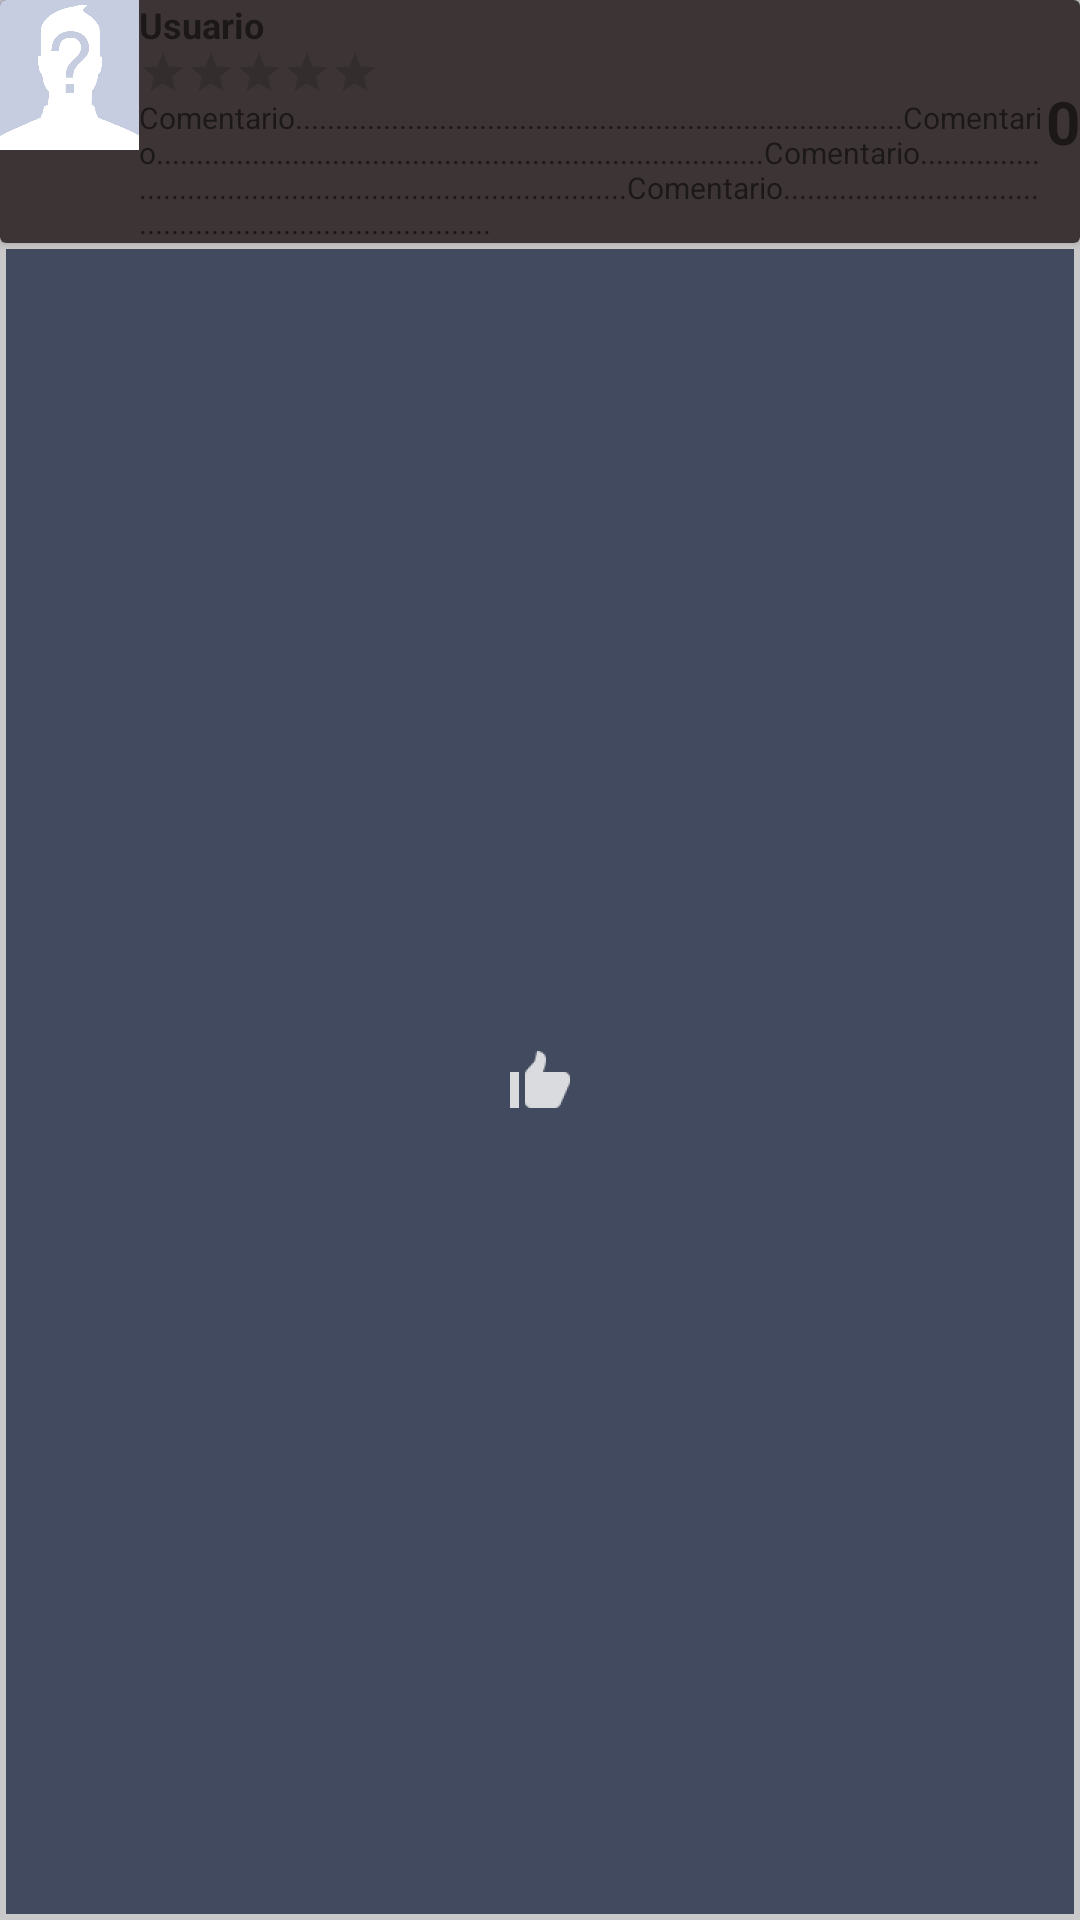

Where to tap for icons on this 1080px x 1920px app screen, as [x,y]:
like: [540,1079]
